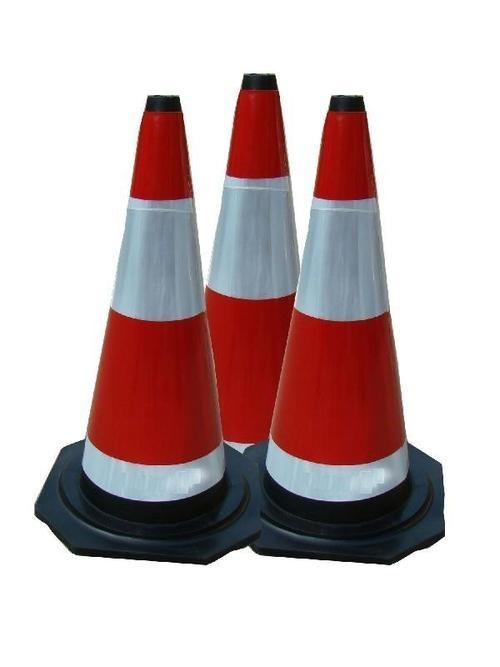cone_barrel: (253, 102, 425, 534), (58, 102, 231, 529), (195, 83, 299, 448)
